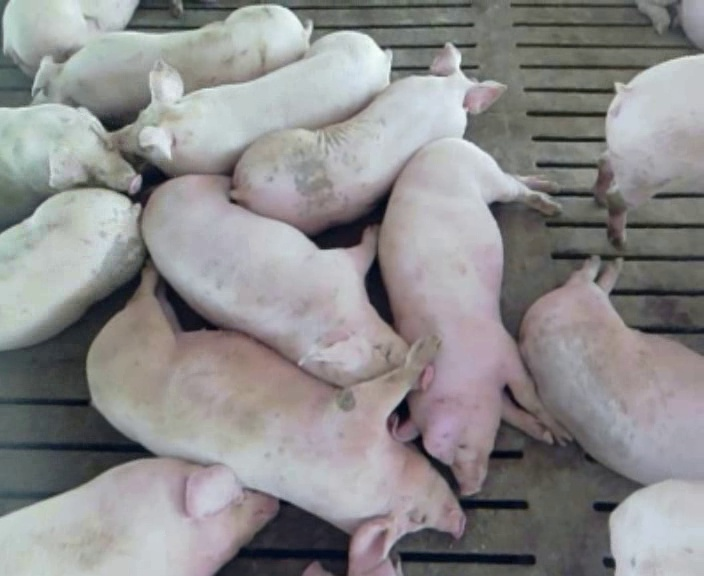pig: (87, 265, 464, 574), (379, 138, 566, 494), (231, 43, 505, 233), (520, 256, 703, 483), (110, 32, 390, 175), (32, 5, 310, 125), (0, 458, 278, 574), (0, 188, 144, 350), (594, 54, 703, 248), (0, 104, 140, 230), (609, 479, 703, 574)
